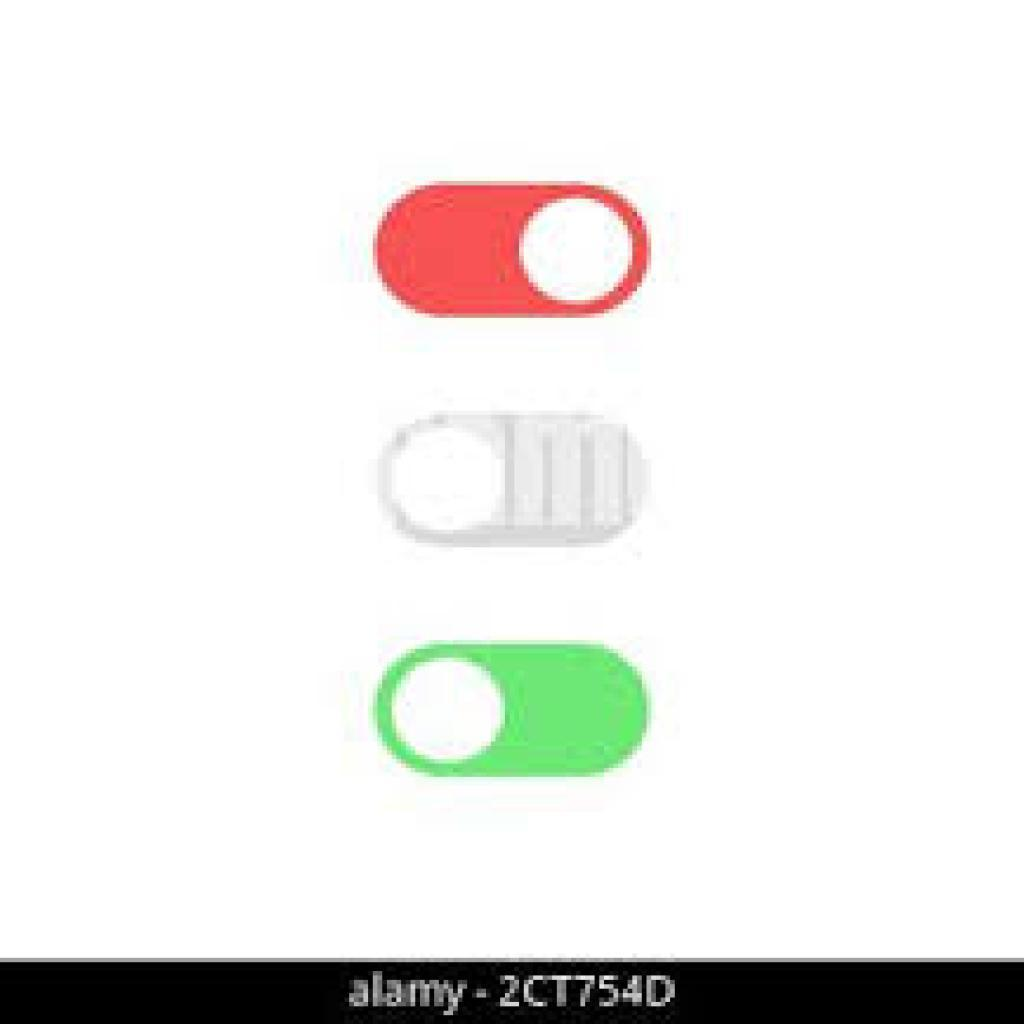switch: (374, 630, 660, 780), (356, 185, 657, 323), (375, 405, 661, 548)
